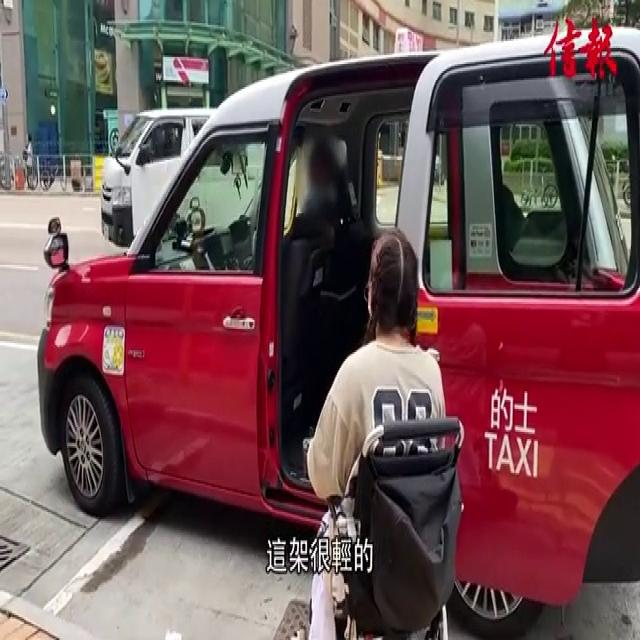wheelchairs: (296, 400, 479, 640)
